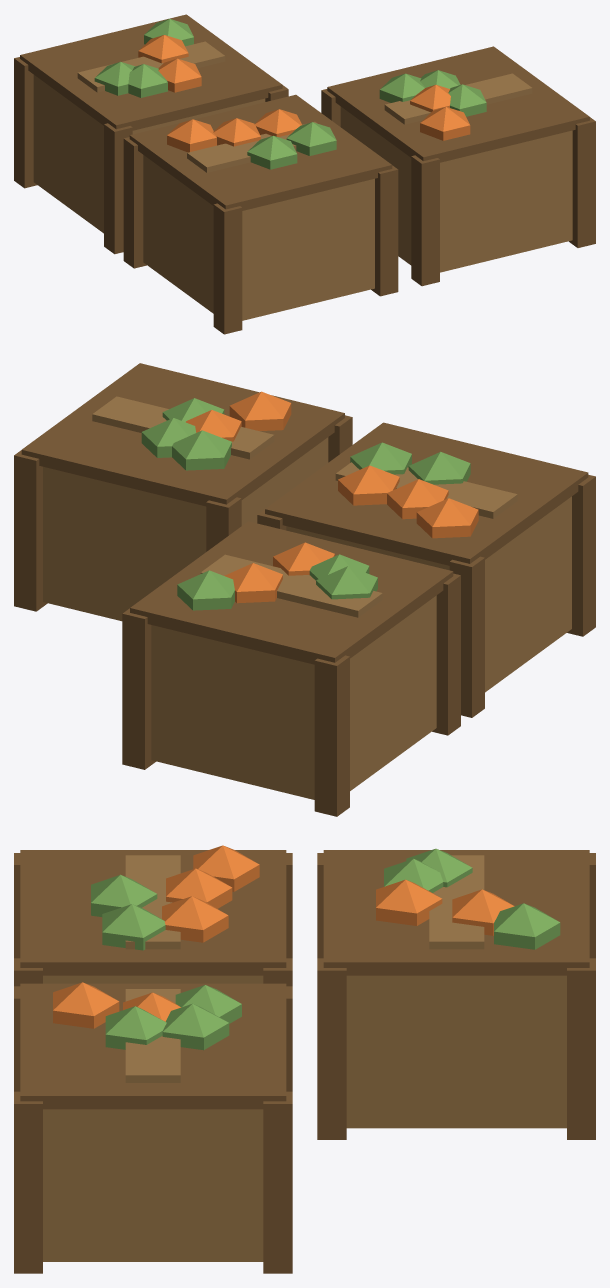
Rendered from pile_vegetables_1.glb.
3 renders of one model, top to bottom at view 1: azimuth 30°, elevation 25°; view 2: azimuth 150°, elevation 25°; view 3: azimuth 270°, elevation 25°, orthographic. The views are drawn at different scales.
Visible parts, largest first — view 1: pile_vegetables_1; view 2: pile_vegetables_1; view 3: pile_vegetables_1.
Boxes of the visible parts, x1,y1,x2,y2 form: pile_vegetables_1: [14, 14, 595, 334]; pile_vegetables_1: [14, 363, 595, 816]; pile_vegetables_1: [14, 845, 595, 1273].
Size of the model in its own units: 1.43 by 0.549 by 1.4.
